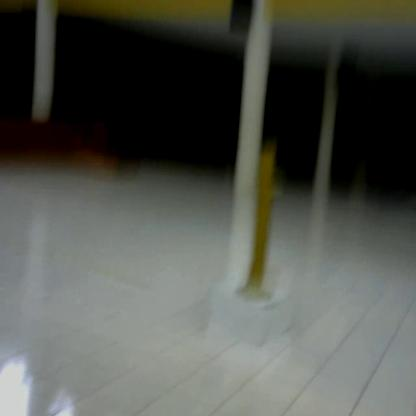pole: (238, 138, 286, 315)
